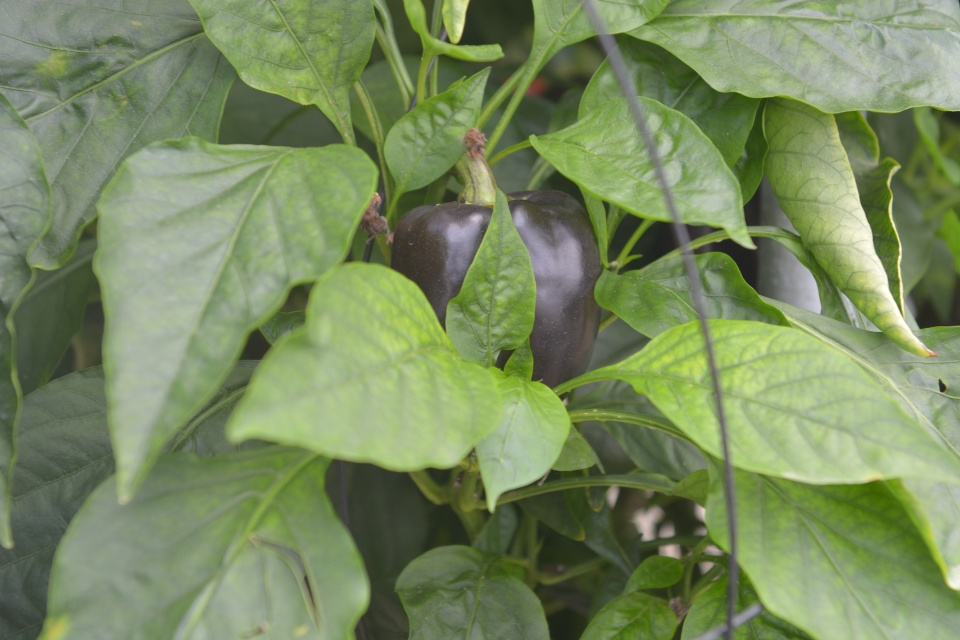fruit: (389, 190, 603, 404)
